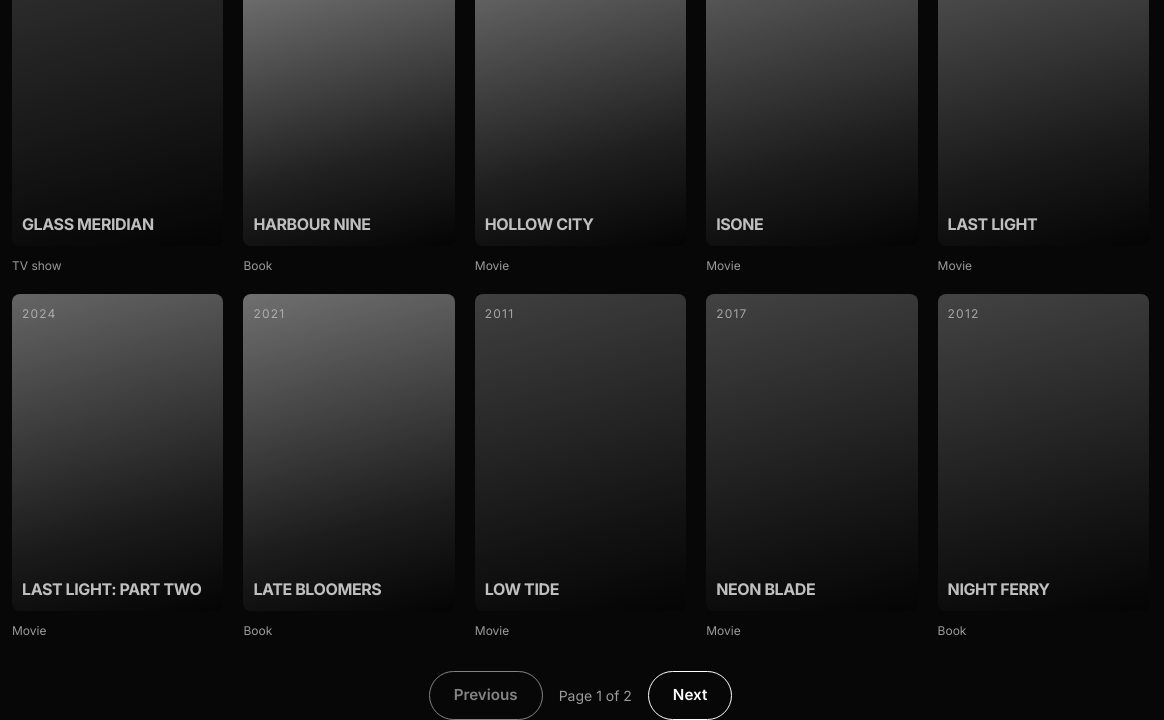
Test: Browse › paginates with ?page and writes the new page to the URL
The width and height of the screenshot is (1164, 720).
(page scrolled)
Click the button "Next".
click(690, 696)  # box [648,671,732,719]
(page scrolled)
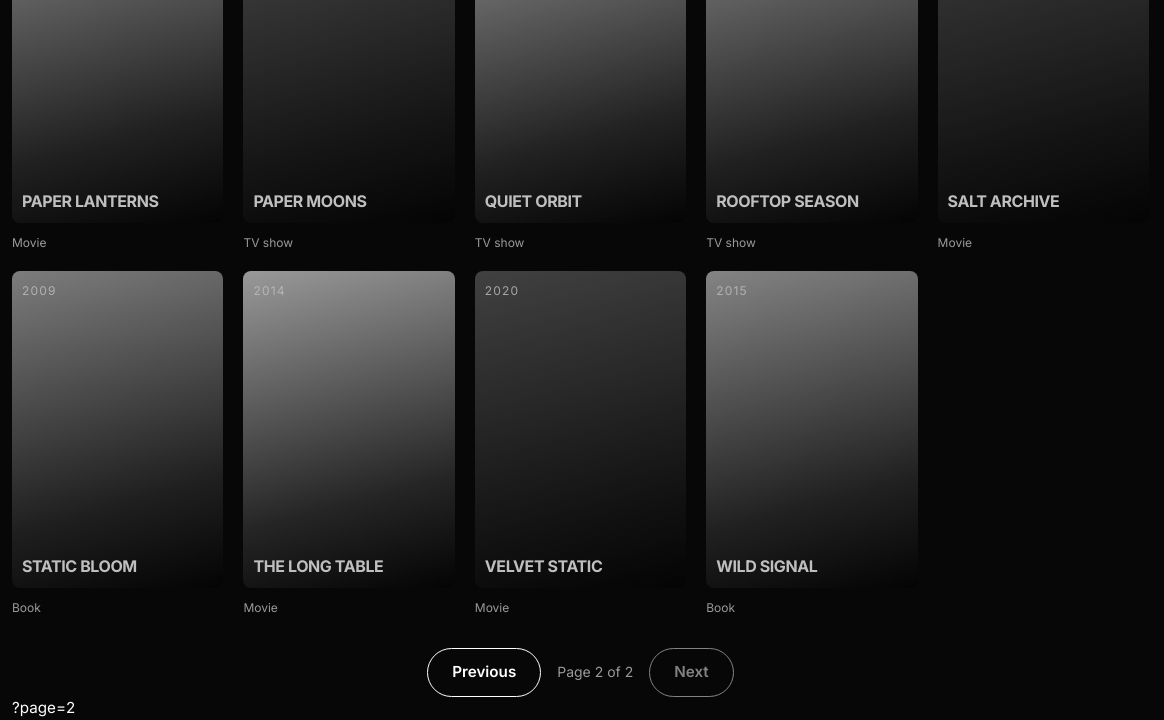
Expected: the text with test id "where" shows "page=2", [12,698,75,717]
